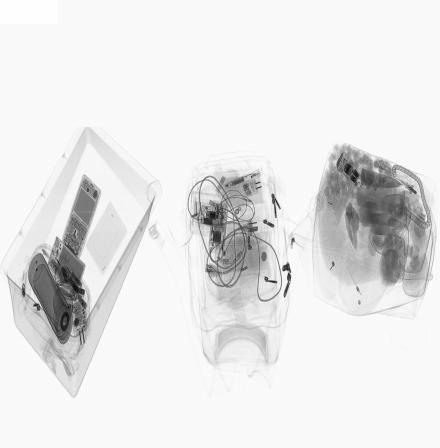Powerbank: (47, 233, 86, 294)
